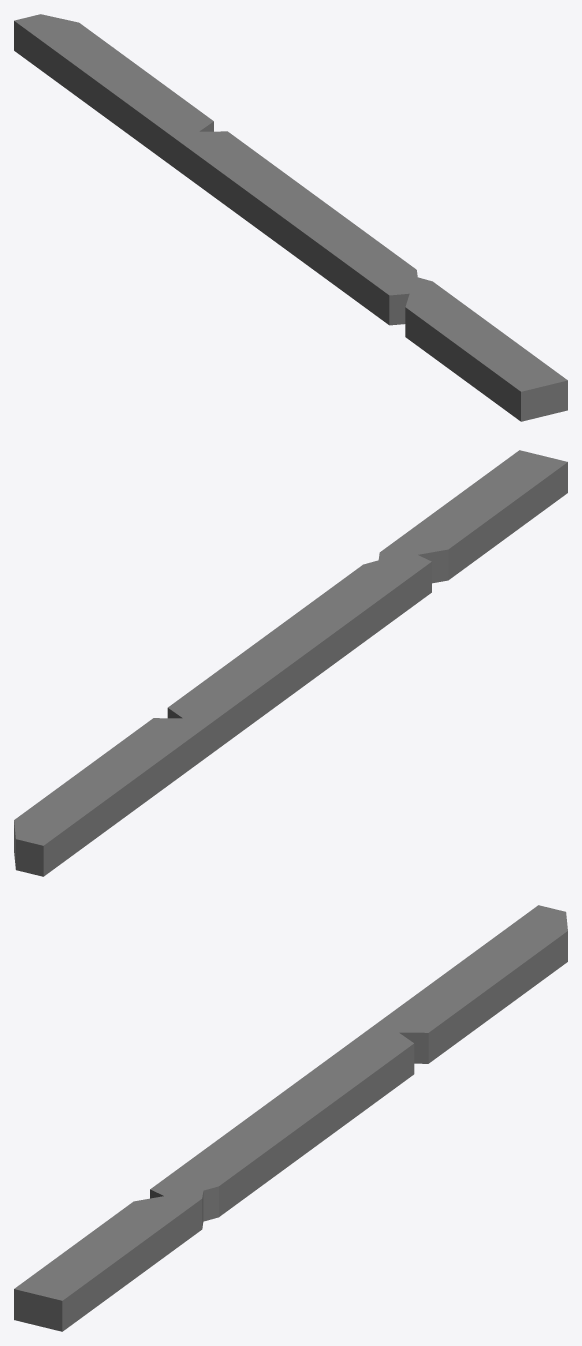
File: stone_10.fbx
3 views of the same model, one above another, from view 1: azimuth 30°, elevation 25°; view 2: azimuth 150°, elevation 25°; view 3: azimuth 330°, elevation 25° (orthographic). The views are drawn at different scales.
Parts seen in each view (by area): view 1: stone_10; view 2: stone_10; view 3: stone_10.
Boxes of the visible parts, x1,y1,x2,y2 form: stone_10: (14, 14, 567, 421); stone_10: (14, 450, 567, 876); stone_10: (14, 905, 567, 1331).
Bounding box in the file's own units: 21.34 × 13.05 × 400.
